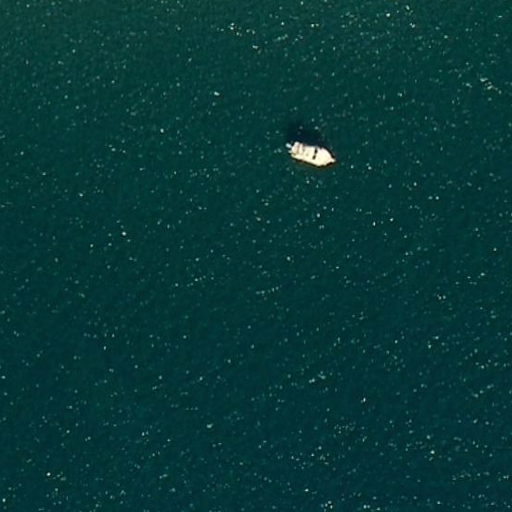ship: (284, 137, 336, 170)
